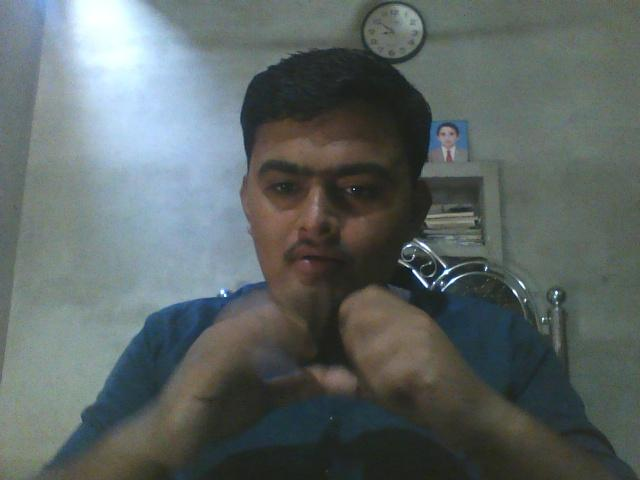IloveYou: (158, 264, 472, 456)
